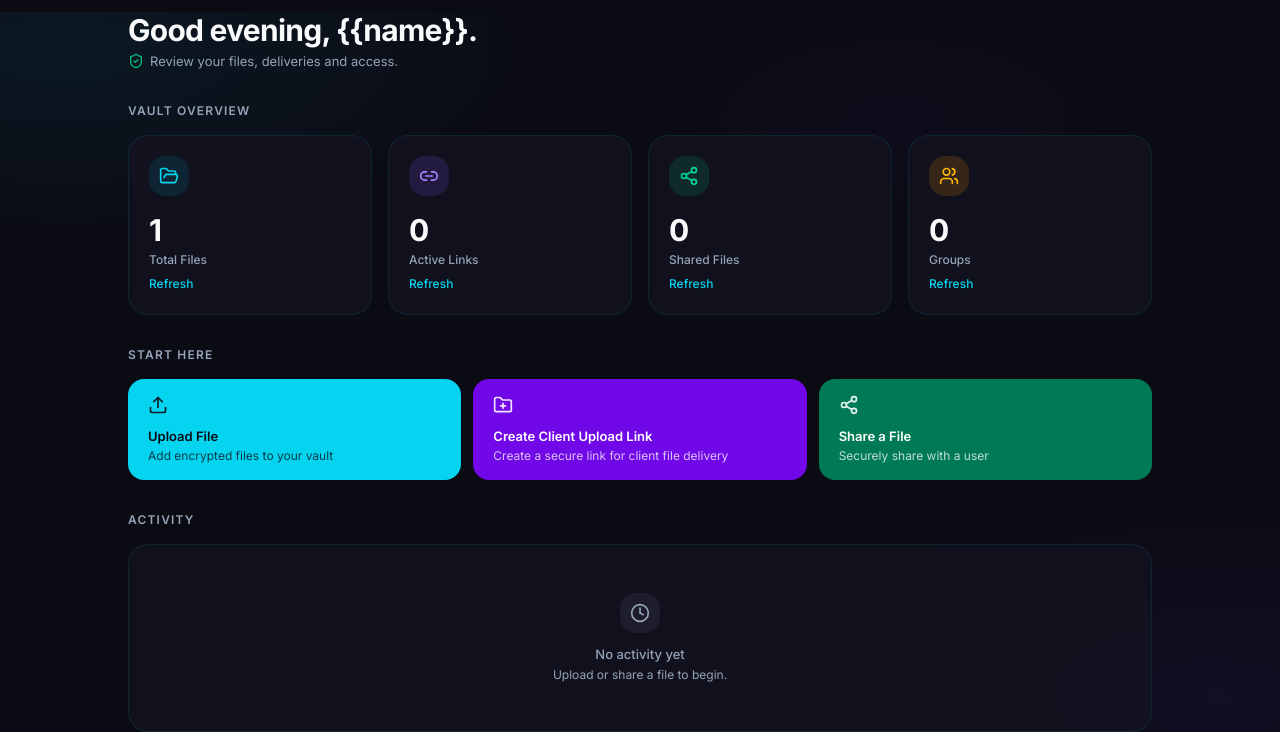
Test: Dashboard truthful overview counts › keeps the last successful count and marks it stale when refresh fails
Check: the text "1" is shown, box [149, 212, 162, 248]
Click the button with aria-label "Refresh Total Files" at (171, 284), box [149, 276, 193, 292]
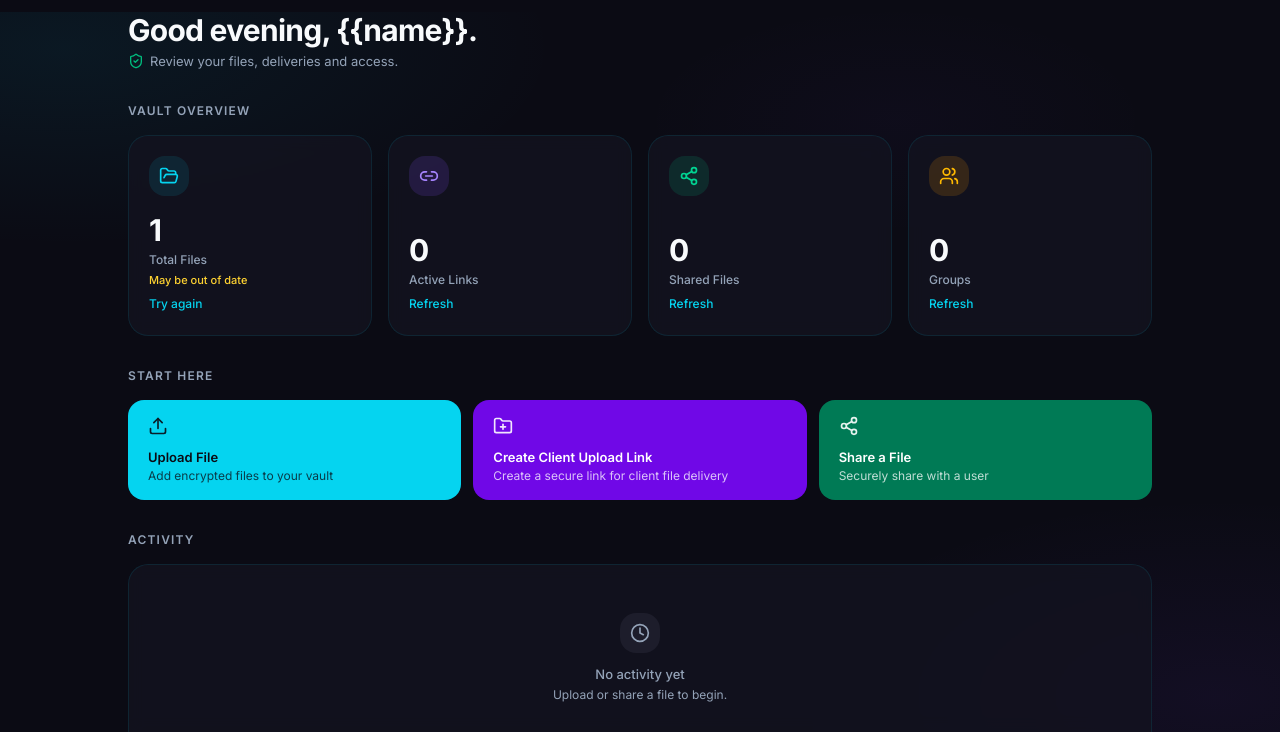
Check: the text "1" is shown, box [149, 212, 162, 248]
Check: the text "May be out of date" is shown, box [149, 273, 247, 287]
